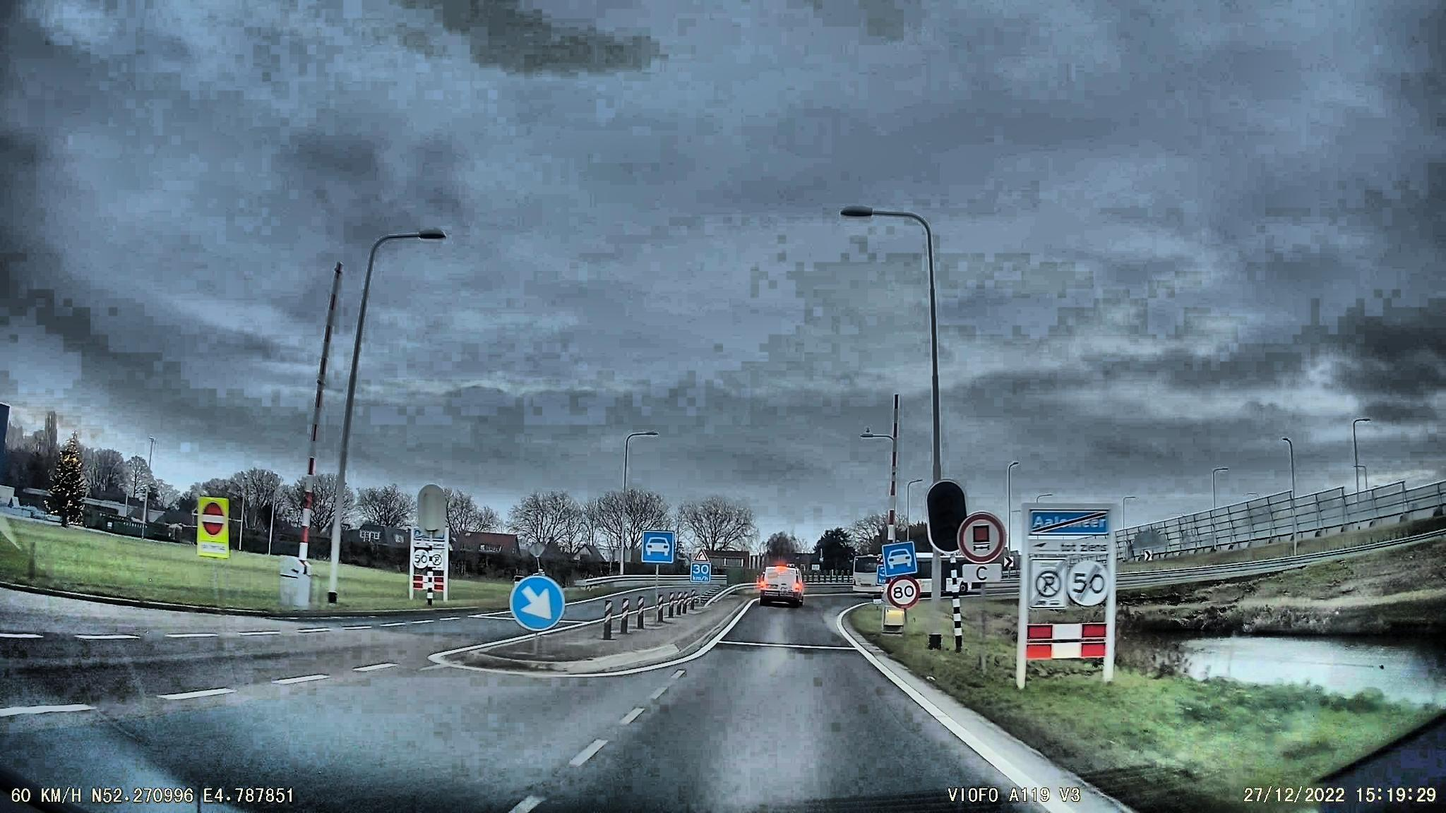Roads: (0, 589, 1138, 813)
